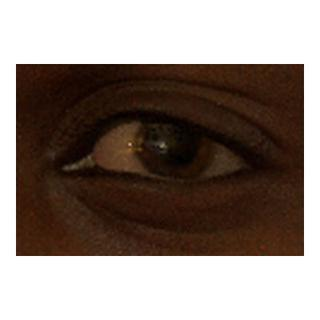pupil: (159, 124, 195, 161)
